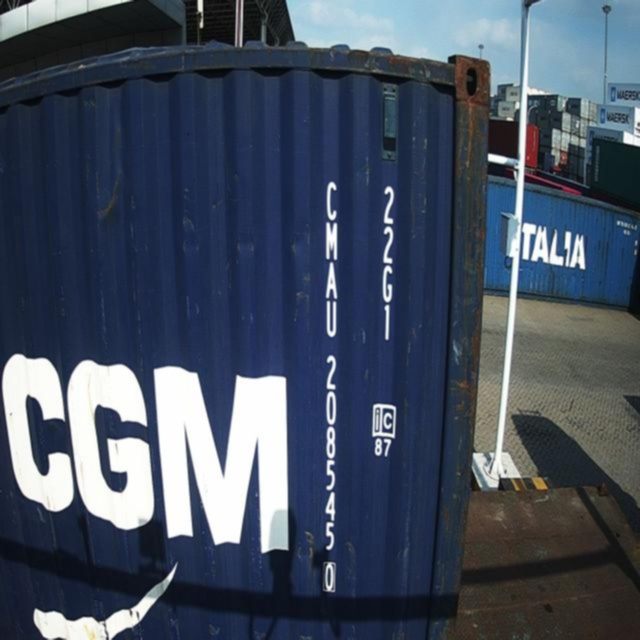Dent: (176, 233, 318, 268)
Rusty: (449, 41, 492, 309)
